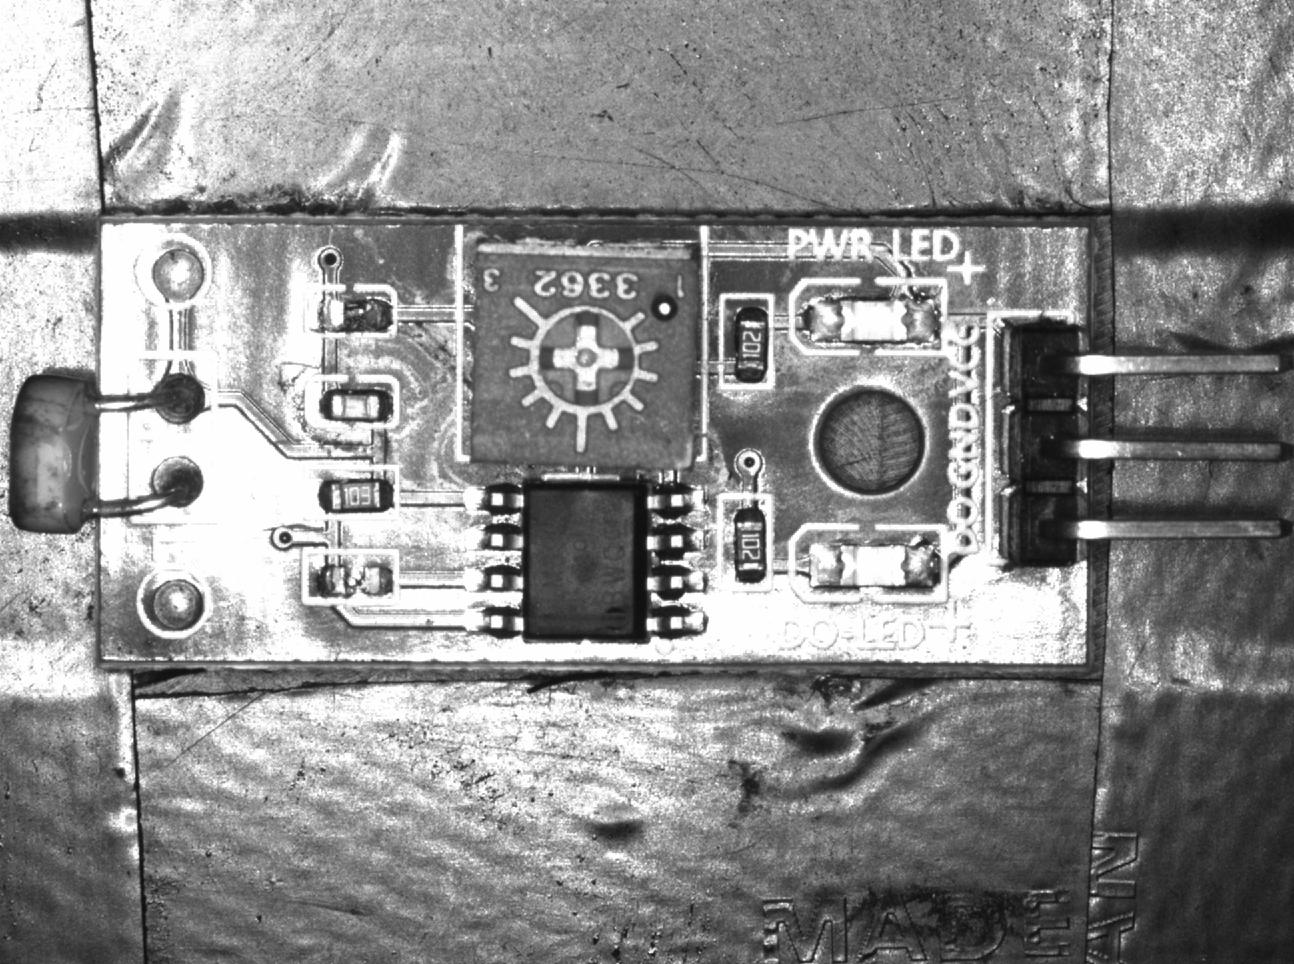miss: (303, 544, 401, 608), (298, 284, 401, 340)
ok: (716, 494, 775, 593), (721, 294, 774, 394), (305, 468, 398, 519), (313, 379, 396, 431)
